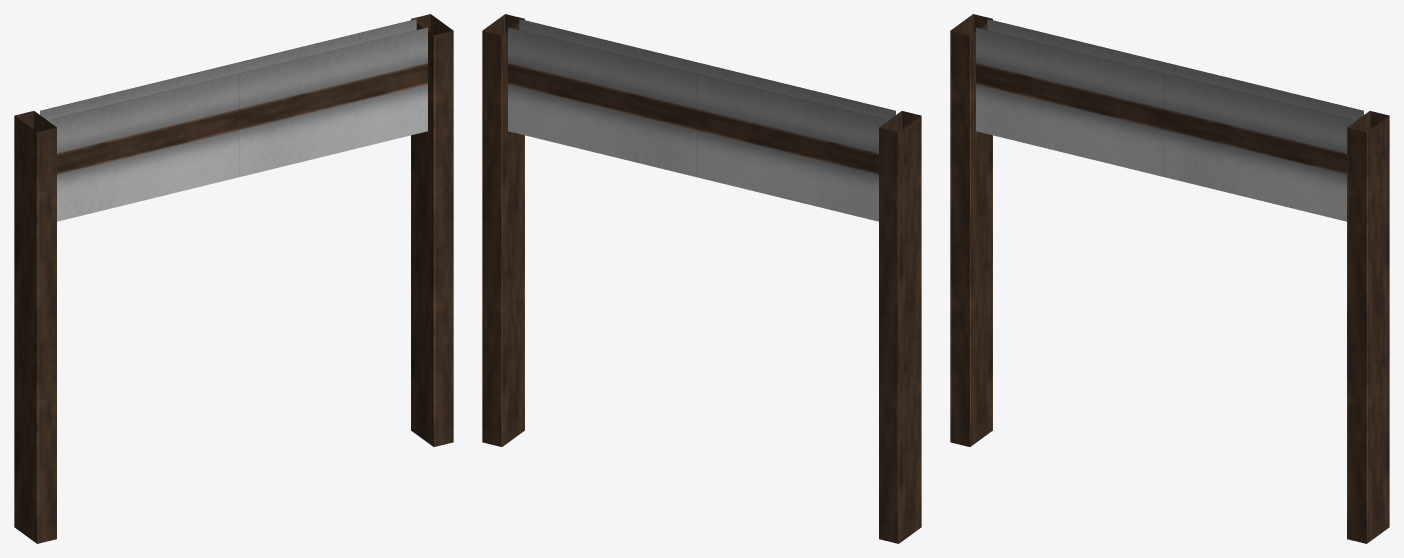
Rendered from house_enterance_4x4.fbx.
The picture shows the model from 3 angles, left to right: view 1: azimuth 30°, elevation 25°; view 2: azimuth 150°, elevation 25°; view 3: azimuth 330°, elevation 25°; orthographic projection.
Visible parts, largest first — view 1: house_enterance_4; view 2: house_enterance_4; view 3: house_enterance_4.
Boxes of the visible parts, x1,y1,x2,y2 form: house_enterance_4: [14, 14, 453, 543]; house_enterance_4: [482, 14, 921, 543]; house_enterance_4: [950, 14, 1389, 543].
Size of the model in its own units: 419 by 400 by 40.
